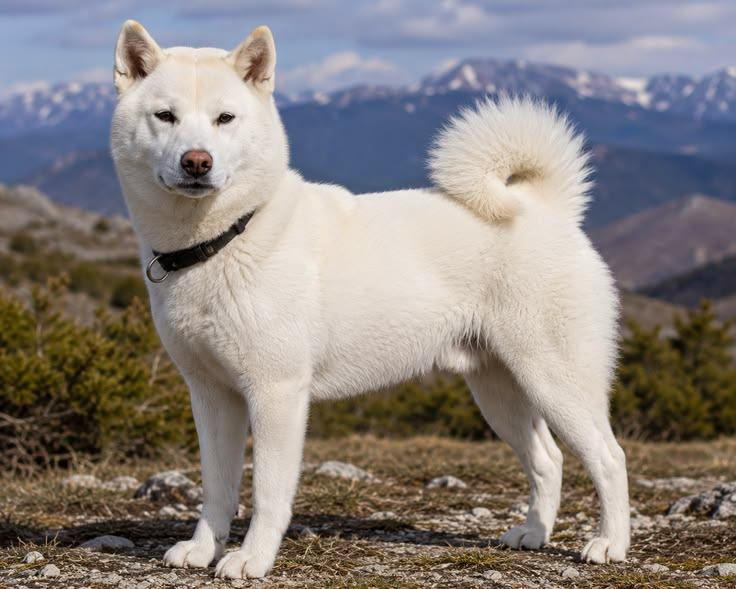dog: (112, 21, 628, 577)
